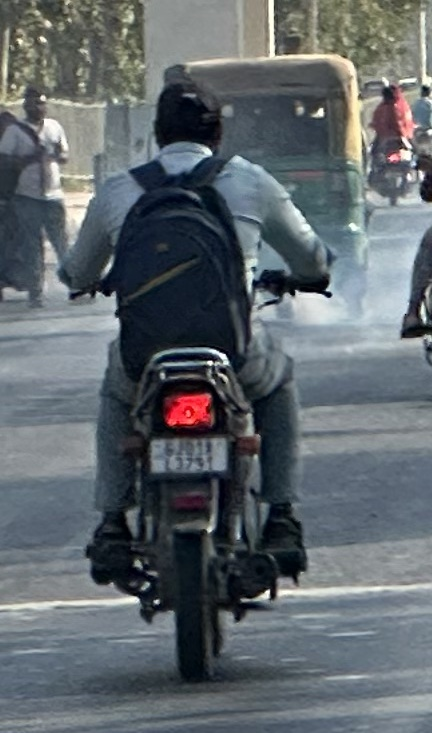BikeWithRider: (48, 67, 345, 690), (360, 77, 422, 210)
NoHelmet: (138, 72, 237, 169)
